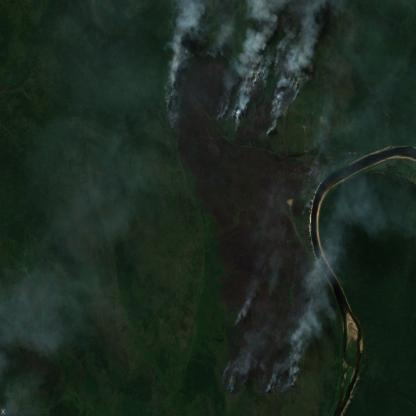fire: (152, 35, 326, 408)
